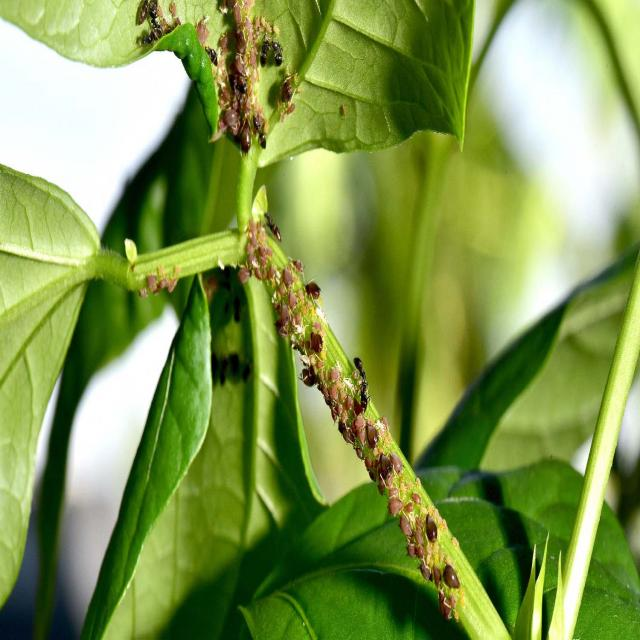Aphid-Grouped-: (227, 196, 478, 625), (133, 3, 285, 180)
Aphid-Grown-: (439, 557, 463, 595), (384, 491, 406, 518), (364, 416, 380, 451), (389, 446, 405, 478), (304, 276, 322, 302), (276, 296, 290, 328), (308, 328, 324, 355), (327, 364, 342, 384), (410, 487, 422, 508)
